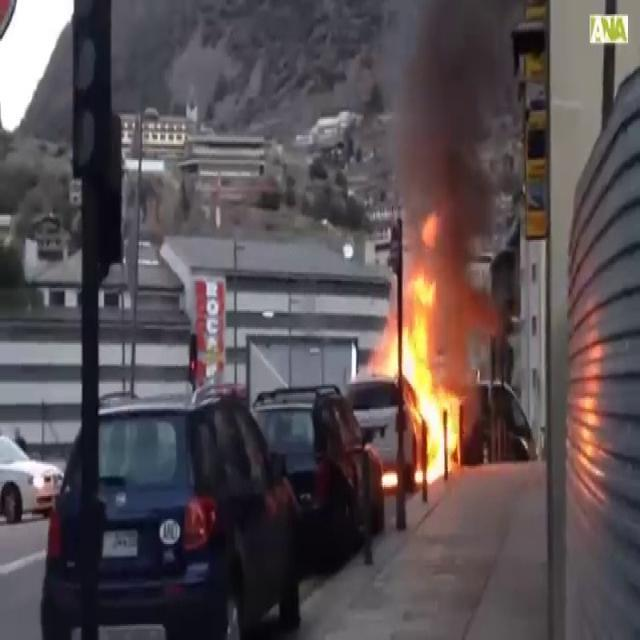Fire: (380, 222, 466, 484)
Smoke: (373, 1, 518, 250)
